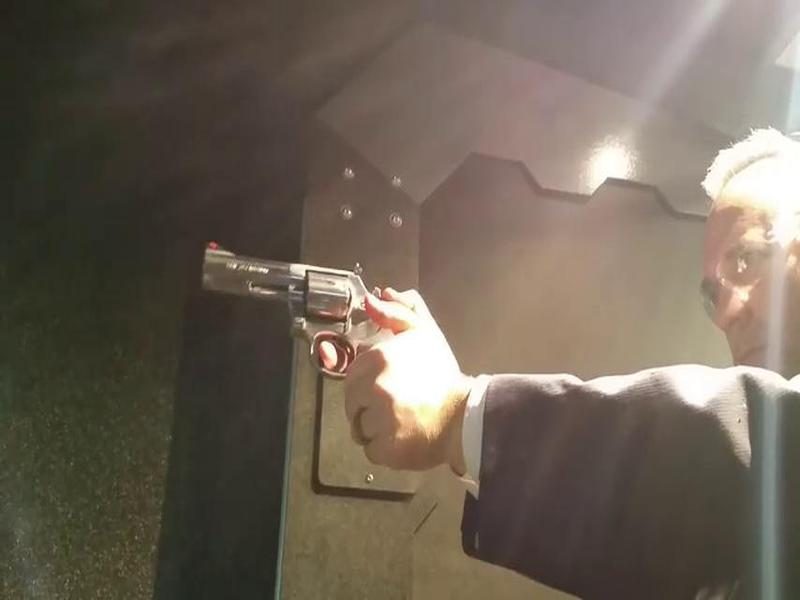Revolver: (183, 232, 417, 427)
